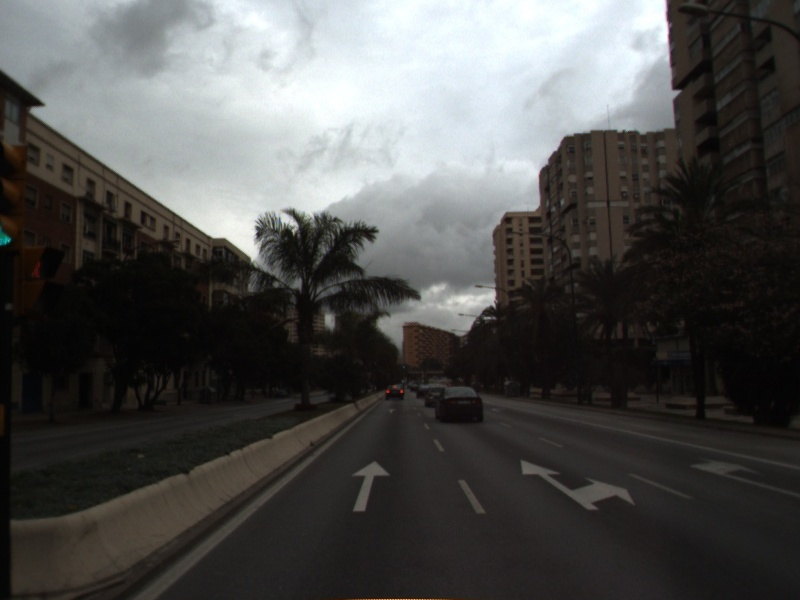RIGHT: (686, 456, 800, 499)
STRAIGHT: (349, 458, 393, 513)
STRAIGHT_RIGHT: (518, 457, 637, 512)
